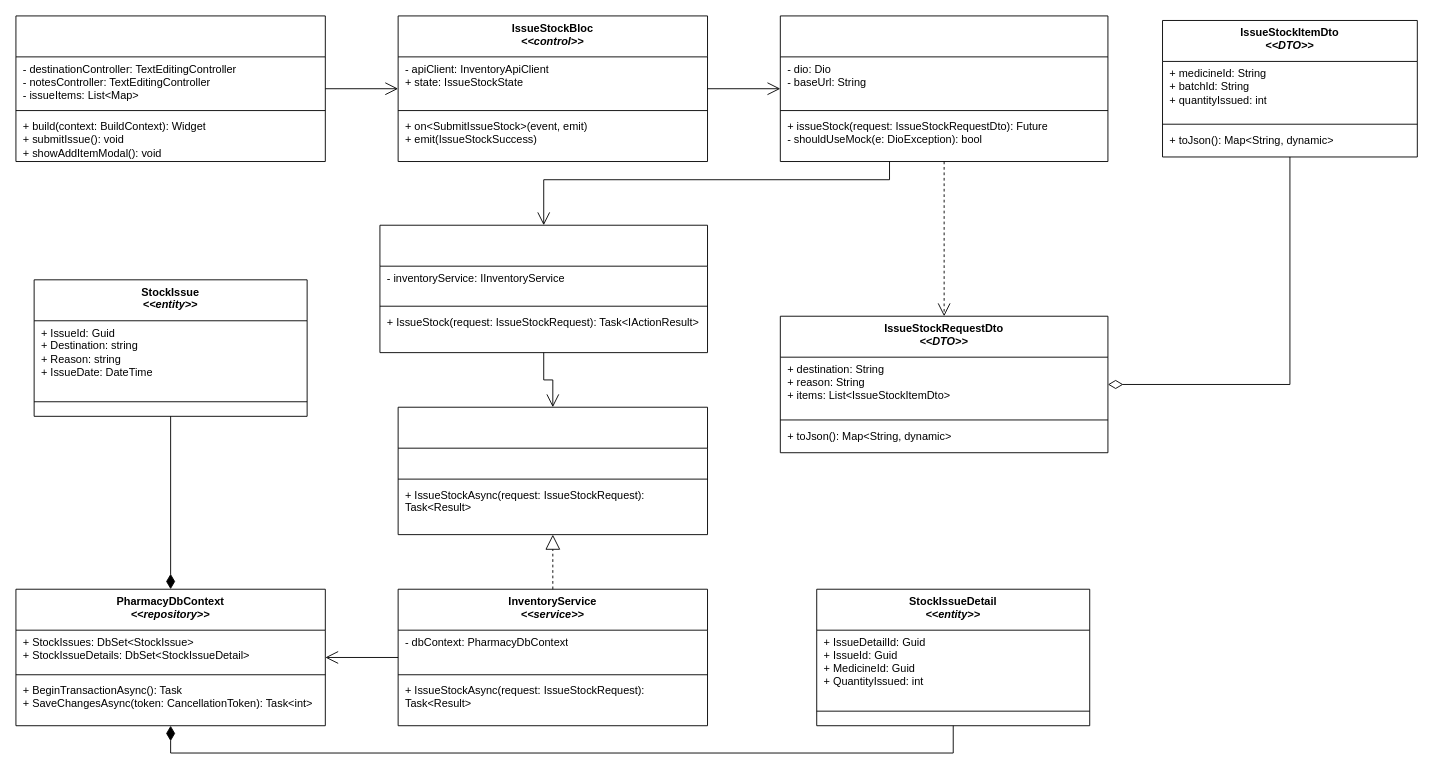
Image size: 1433x784. Some labels were removed from this diagram. Each missing label, with the box of its shape:
IInventoryService <<interface>>: (397, 406, 708, 535)
InventoryApiClient <<control>>: (779, 15, 1108, 162)
InventoryController <<control>>: (379, 224, 708, 353)
IssueStockScreen <<boundary>>: (15, 15, 325, 162)
